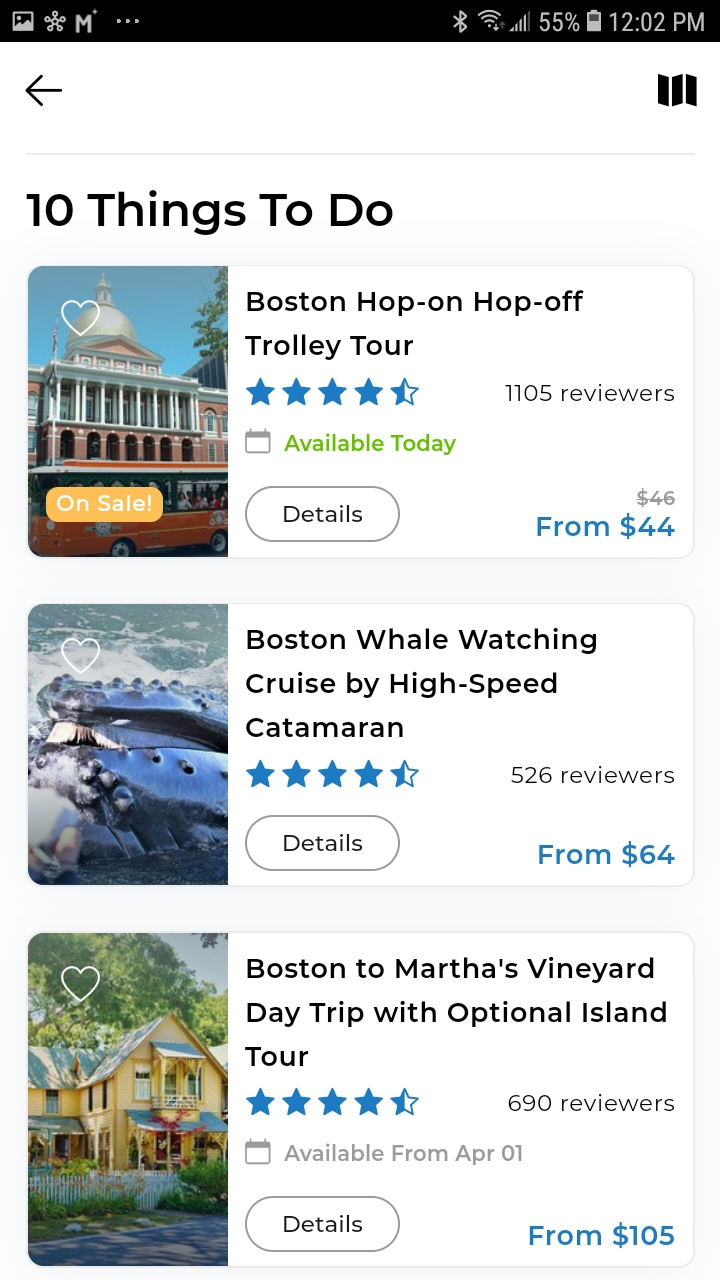Icon: (245, 1087, 420, 1116), (245, 377, 420, 406), (246, 760, 420, 788), (61, 965, 102, 1003), (61, 299, 102, 337), (61, 638, 101, 674), (657, 74, 697, 108), (26, 75, 64, 108), (245, 1137, 272, 1165), (245, 428, 272, 455)
Image: (28, 933, 229, 1266), (29, 267, 229, 558), (28, 604, 229, 886)
Text: (244, 956, 667, 1067), (246, 628, 596, 738), (245, 290, 584, 361), (27, 191, 394, 237), (285, 1143, 522, 1165), (284, 433, 457, 456), (530, 1221, 675, 1248), (538, 513, 675, 539), (539, 841, 675, 867), (508, 1093, 675, 1113), (505, 384, 675, 403), (510, 766, 675, 785), (636, 489, 676, 508)
TextButton: (245, 814, 401, 872), (244, 1196, 401, 1253), (245, 486, 401, 543), (46, 487, 164, 523)
UpperTaskBar: (1, 1, 720, 43)
